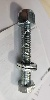FinishedAssembly: (12, 6, 41, 95)
